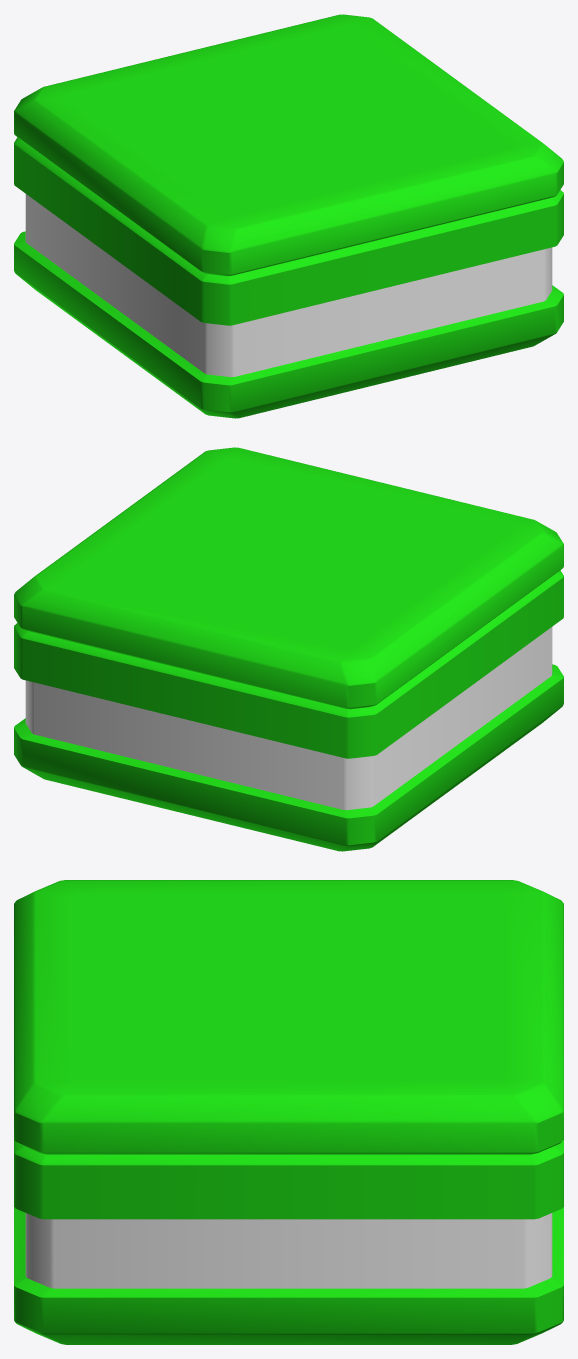
The model's file is 12_Box_green_semi_sized.fbx.
3 views of the same model, one above another, from view 1: azimuth 30°, elevation 25°; view 2: azimuth 150°, elevation 25°; view 3: azimuth 270°, elevation 25° (orthographic). The views are drawn at different scales.
Parts seen in each view (by area): view 1: 12_Box_green_semi_sized; view 2: 12_Box_green_semi_sized; view 3: 12_Box_green_semi_sized.
Boxes of the visible parts, x1,y1,x2,y2 form: 12_Box_green_semi_sized: (14, 14, 563, 418); 12_Box_green_semi_sized: (14, 447, 563, 851); 12_Box_green_semi_sized: (14, 880, 563, 1344).
Bounding box in the file's own units: 100 × 50 × 100.
